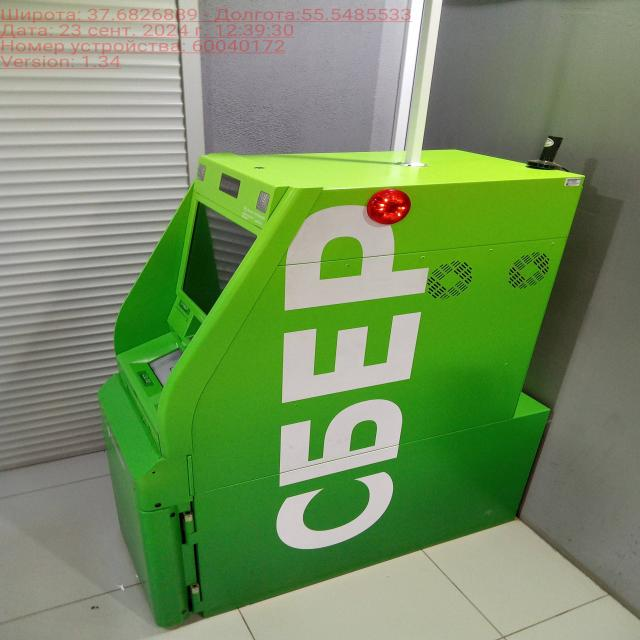bank: (99, 147, 582, 626)
